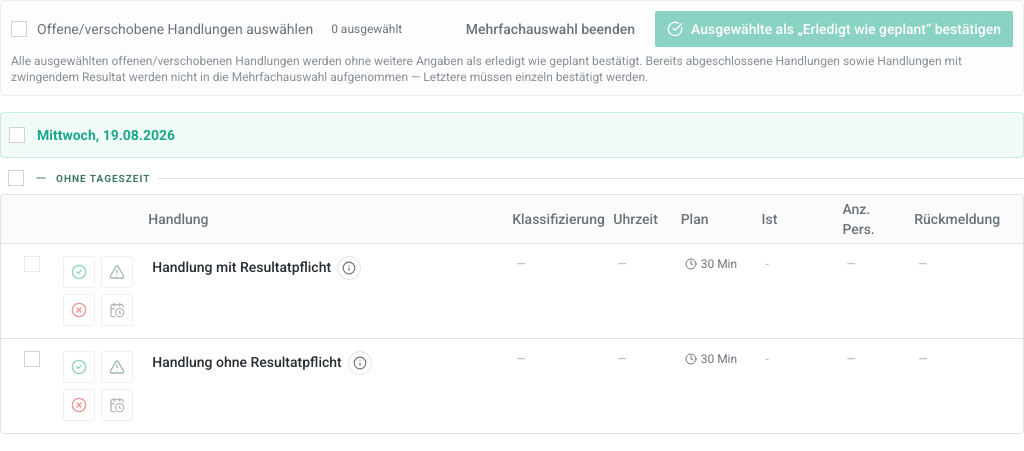
it: Zwingendes Resultat in der Mehrfachauswahl › nimmt sie auch über «alle auswählen» nicht auf
This screenshot has width=1024, height=451.
Click the checkbox named "Alle offenen Handlungen für Mehrfachbestätigung auswählen" at (19, 29), box [11,21,27,37]
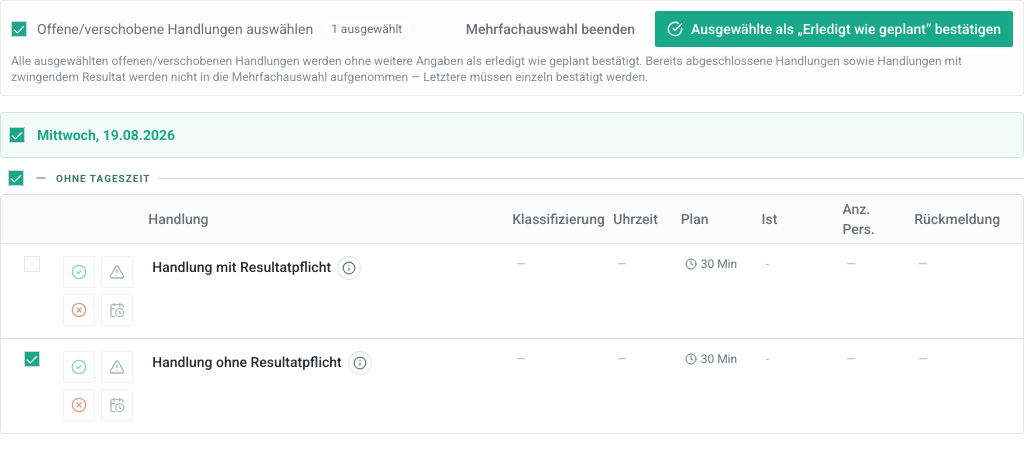
expect the text "1 ausgewählt" is shown: met, box [323,19,410,39]
